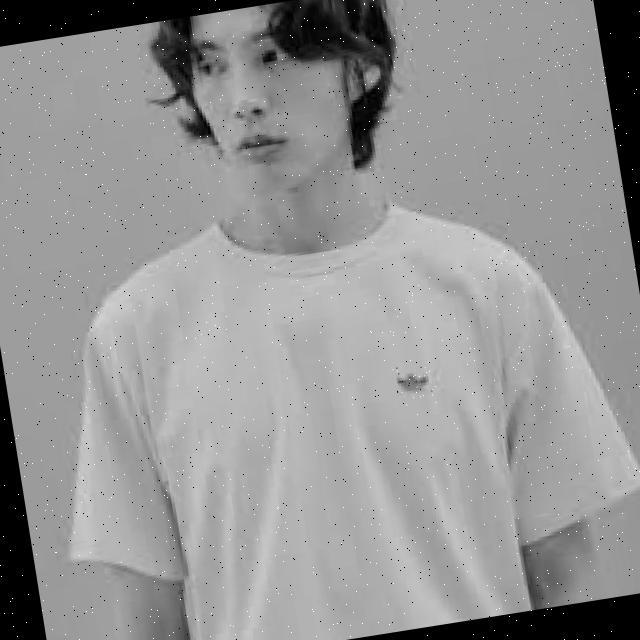Adidas: (393, 361, 439, 409)
